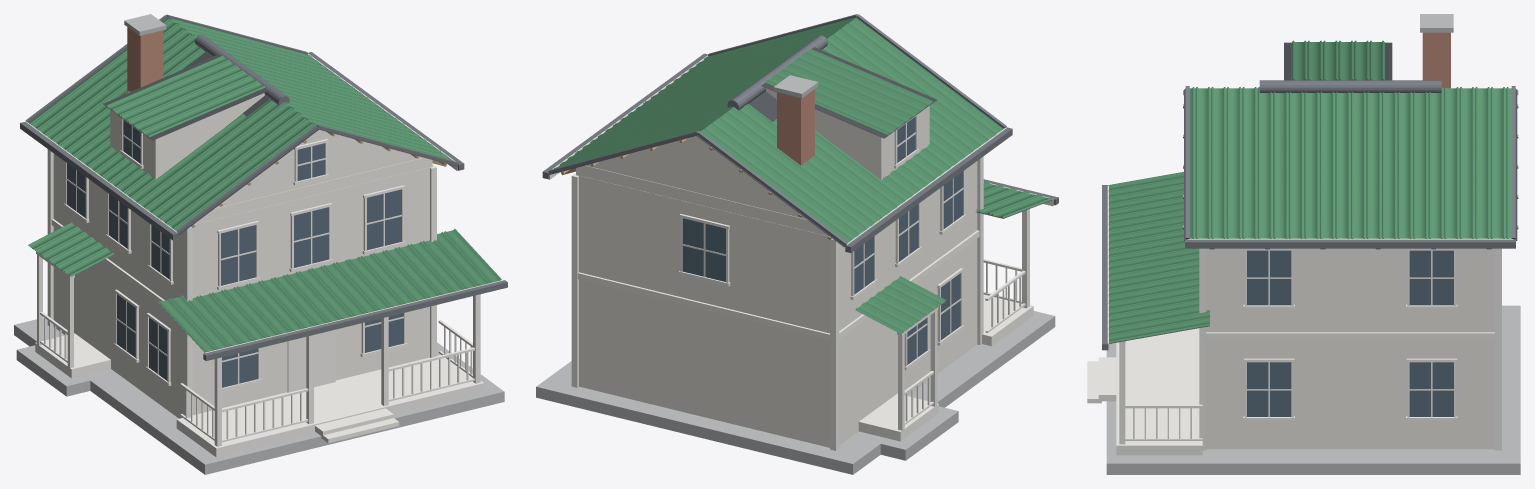
File: Mega_Twin_Rib_Compact_Porch_House.glb
3 views of the same model, side by side, from view 1: azimuth 30°, elevation 25°; view 2: azimuth 150°, elevation 25°; view 3: azimuth 270°, elevation 25° (orthographic). The views are drawn at different scales.
Parts seen in each view (by area): view 1: Main_Walls, Porch_Deck_Front, Foundation_Main, RoofSheet_13, Gable_Wall_Front, RoofSheet_14, RoofSheet_08, RoofSheet_16, RoofSheet_15, RoofSheet_09, Gable_Band_Front, Gutter_Porch (+59 smaller); view 2: Main_Walls, Foundation_Main, Gable_Wall_Back, RoofSheet_14, RoofSheet_08, RoofSheet_09, RoofSheet_16, Gable_Band_Back, SecondFloor_BandTrim, RoofSheet_15, Base_Chimney, RoofSheet_13 (+40 smaller); view 3: Main_Walls, Foundation_Main, Porch_Deck_Front, RoofSheet_03, RoofSheet_02, RoofSheet_06, RoofSheet_04, RoofSheet_05, RoofSheet_01, RoofSheet_07, Gutter_Right, Window_2F_Right_1 (+28 smaller).
Boxes of the visible parts, box(x1,y1,x2,y2) form: Main_Walls: box(53, 153, 432, 418); Porch_Deck_Front: box(176, 355, 484, 457); Foundation_Main: box(14, 317, 504, 474); RoofSheet_13: box(135, 99, 295, 216); Gable_Wall_Front: box(215, 129, 422, 208); RoofSheet_14: box(157, 112, 314, 230); RoofSheet_08: box(29, 18, 187, 137); RoofSheet_16: box(128, 71, 265, 137); RoofSheet_15: box(106, 55, 243, 121); RoofSheet_09: box(49, 33, 205, 153); Gable_Band_Front: box(194, 157, 432, 224); Gutter_Porch: box(203, 280, 507, 360); Main_Walls: box(576, 161, 977, 447); Foundation_Main: box(536, 311, 1055, 474); Gable_Wall_Back: box(586, 136, 806, 219); RoofSheet_14: box(835, 17, 1003, 144); RoofSheet_08: box(700, 117, 867, 242); RoofSheet_09: box(721, 104, 890, 227); RoofSheet_16: box(788, 48, 933, 118); Gable_Band_Back: box(576, 165, 828, 236); SecondFloor_BandTrim: box(578, 230, 979, 340); RoofSheet_15: box(765, 65, 910, 134); Base_Chimney: box(777, 89, 814, 165); RoofSheet_13: box(821, 33, 981, 161); Main_Walls: box(1206, 248, 1494, 449); Foundation_Main: box(1106, 305, 1520, 474); Porch_Deck_Front: box(1116, 328, 1202, 455); RoofSheet_03: box(1280, 92, 1327, 238); RoofSheet_02: box(1234, 87, 1280, 238); RoofSheet_06: box(1420, 87, 1466, 238); RoofSheet_04: box(1327, 92, 1373, 238); RoofSheet_05: box(1374, 92, 1420, 238); RoofSheet_01: box(1189, 87, 1233, 238); RoofSheet_07: box(1467, 87, 1511, 238); Gutter_Right: box(1185, 239, 1515, 248); Window_2F_Right_1: box(1247, 250, 1291, 305).
Bounding box in the file's own units: 8.23 × 7.71 × 8.79.
